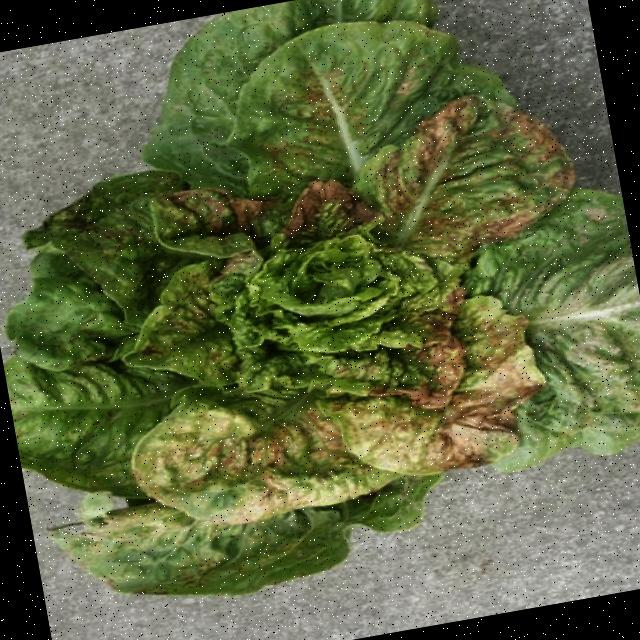Viral: (108, 56, 624, 532)
